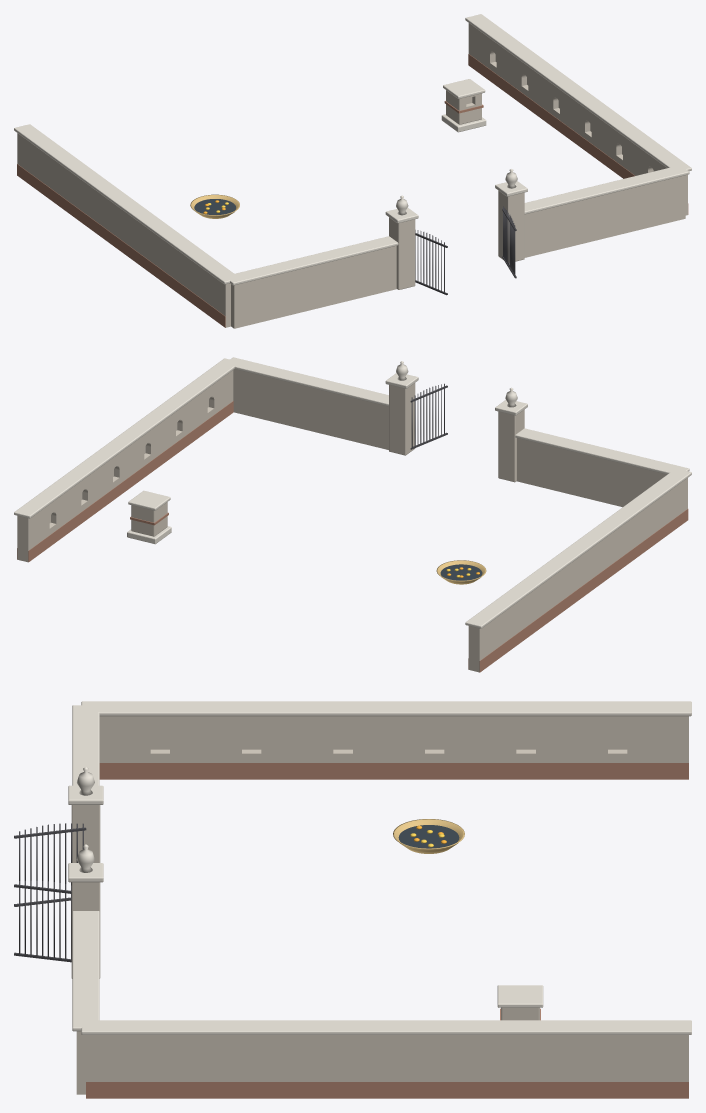
Rendered from courtyard.glb.
3 renders of one model, top to bottom at view 1: azimuth 30°, elevation 25°; view 2: azimuth 150°, elevation 25°; view 3: azimuth 270°, elevation 25°, orthographic. The views are drawn at different scales.
Visible parts, largest first — view 1: FrontWall1, Coping, TulsiVrindavan, GateLeaf, UrliWater; view 2: FrontWall1, Coping, TulsiVrindavan, GateLeaf, UrliWater; view 3: FrontWall1, Coping, TulsiVrindavan, GateLeaf, UrliWater, Urli, Finial.
Boxes of the visible parts, left/top/right/bottom form: FrontWall1: left=17, top=23, right=687, bottom=328; Coping: left=14, top=14, right=691, bottom=285; TulsiVrindavan: left=17, top=54, right=688, bottom=327; GateLeaf: left=415, top=206, right=516, bottom=295; UrliWater: left=194, top=199, right=235, bottom=214; FrontWall1: left=17, top=369, right=687, bottom=672; Coping: left=14, top=357, right=691, bottom=628; TulsiVrindavan: left=17, top=401, right=688, bottom=672; GateLeaf: left=410, top=383, right=447, bottom=449; UrliWater: left=440, top=564, right=482, bottom=580; FrontWall1: left=71, top=716, right=688, bottom=1094; Coping: left=68, top=701, right=691, bottom=1034; TulsiVrindavan: left=86, top=763, right=688, bottom=1098; GateLeaf: left=14, top=823, right=86, bottom=962; UrliWater: left=398, top=825, right=459, bottom=848; Urli: left=393, top=819, right=464, bottom=853; Finial: left=77, top=767, right=94, bottom=872.
Bounding box in the file's own units: 13.68 × 2.5 × 11.86.
